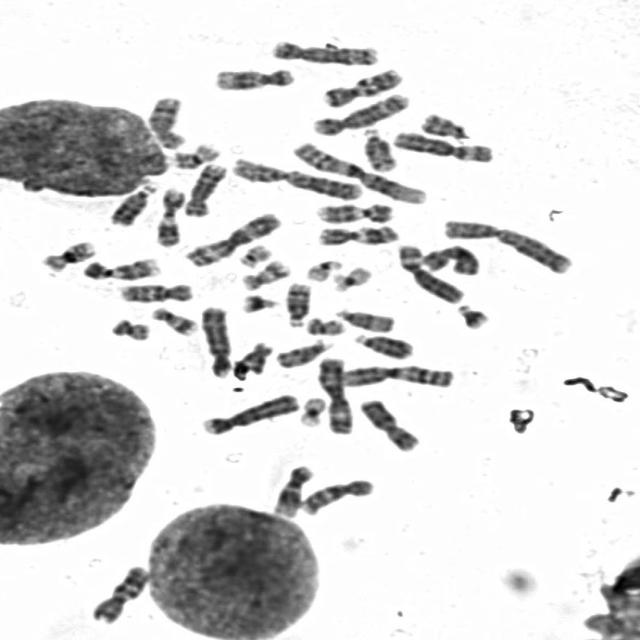A1: (288, 137, 430, 205), (336, 360, 456, 389)
A2: (437, 214, 577, 275), (228, 152, 367, 202)
A3: (180, 208, 285, 268), (313, 353, 355, 435)
B4: (197, 390, 302, 436), (196, 301, 234, 379)
B5: (306, 88, 412, 136), (266, 36, 382, 66)
C10: (296, 474, 377, 516), (113, 279, 196, 304)
C11: (151, 185, 188, 248), (313, 222, 401, 246)
C12: (268, 461, 316, 518), (208, 63, 298, 92)
C6: (391, 240, 467, 304), (389, 127, 498, 164)
C7: (85, 560, 152, 624), (318, 64, 406, 108)
C8: (178, 159, 230, 218), (142, 92, 188, 150)
C9: (78, 253, 164, 282), (310, 198, 396, 224)
D13: (105, 180, 158, 228), (350, 328, 417, 361)
D14: (356, 124, 400, 172), (280, 278, 313, 328)
D15: (272, 335, 334, 369), (331, 304, 398, 333)
E16: (36, 236, 99, 273), (166, 138, 223, 170)
E17: (237, 255, 292, 292), (147, 302, 201, 337)
E18: (416, 108, 472, 142), (229, 338, 275, 378)
F19: (327, 262, 374, 293), (294, 392, 328, 428)
F20: (105, 315, 154, 342), (301, 313, 348, 336)
G21: (452, 299, 493, 331), (236, 290, 281, 314)
G22: (301, 255, 346, 283), (234, 240, 275, 268)
X: (355, 395, 424, 453), (416, 240, 483, 276)
